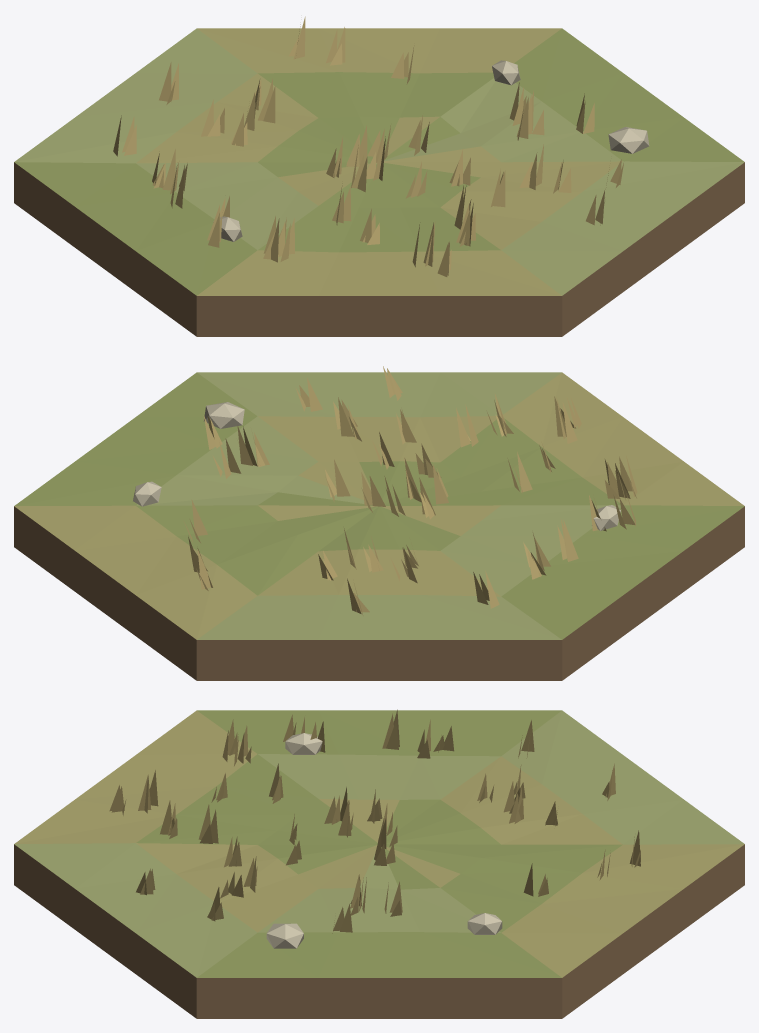
Rendered from SM_Llanura_A_LOD0.fbx.
The picture shows the model from 3 angles, top to bottom: view 1: azimuth 30°, elevation 25°; view 2: azimuth 150°, elevation 25°; view 3: azimuth 270°, elevation 25°; orthographic projection.
Parts seen in each view (by area): view 1: SM_Llanura_A_LOD0; view 2: SM_Llanura_A_LOD0; view 3: SM_Llanura_A_LOD0.
Boxes of the visible parts, x1,y1,x2,y2 form: SM_Llanura_A_LOD0: (14, 16, 744, 336); SM_Llanura_A_LOD0: (14, 366, 744, 680); SM_Llanura_A_LOD0: (14, 709, 744, 1018).
Bounding box in the file's own units: 1.68 × 0.24 × 1.94.
